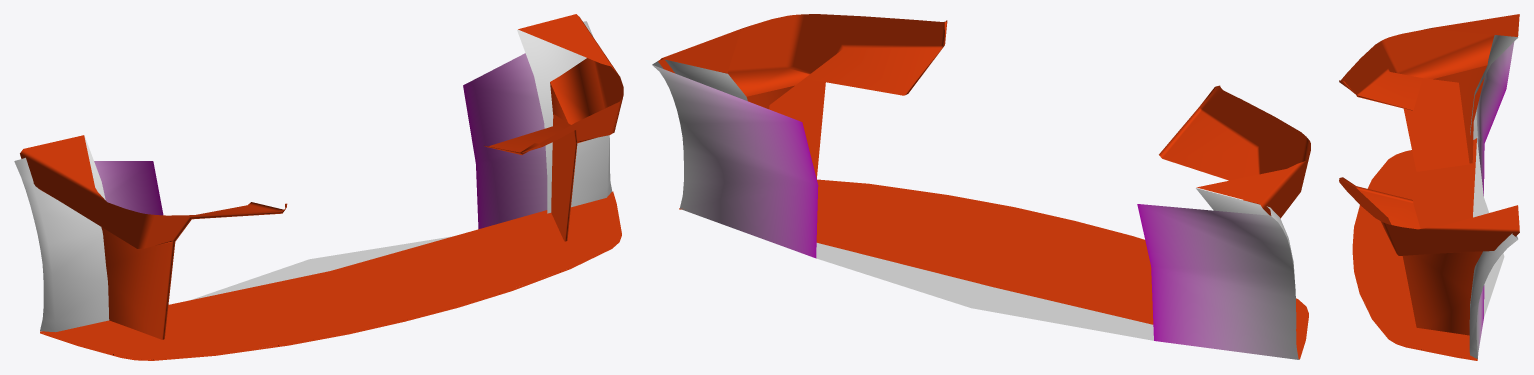
Rendered from Car_Nissan_SkylineGTRVspecR34_1999_BumperChassisF_SetE.fbx.
3 views of the same model, side by side, from view 1: azimuth 30°, elevation 25°; view 2: azimuth 150°, elevation 25°; view 3: azimuth 270°, elevation 25° (orthographic). The views are drawn at different scales.
Parts seen in each view (by area): view 1: BumperChassisF 6; view 2: BumperChassisF 6; view 3: BumperChassisF 6.
Part boxes in pixels (box(x1,y1,x2,y2)): BumperChassisF 6: box(14, 14, 623, 360); BumperChassisF 6: box(652, 14, 1310, 359); BumperChassisF 6: box(1339, 14, 1519, 360).
Size of the model in its own units: 1.73 by 0.4997 by 0.5958.
